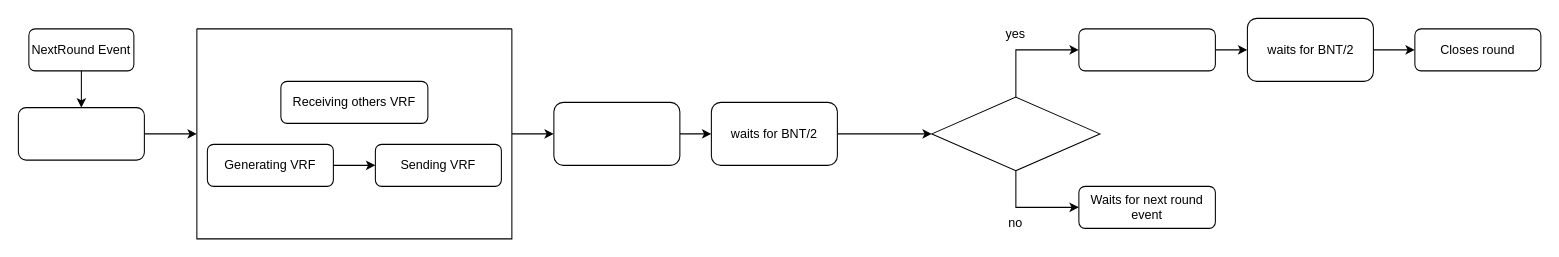
Some shapes in this 1559 by 257 pixel diagram are drawn without their labels. Each missing label, with the centre of its shape:
"Adds VRF to contracts" goes at (1146,49).
"Fetching last round random number" goes at (80,133).
"Finding the smallest number from VRFs" goes at (616,133).
"user has smallest number" goes at (1015,133).
